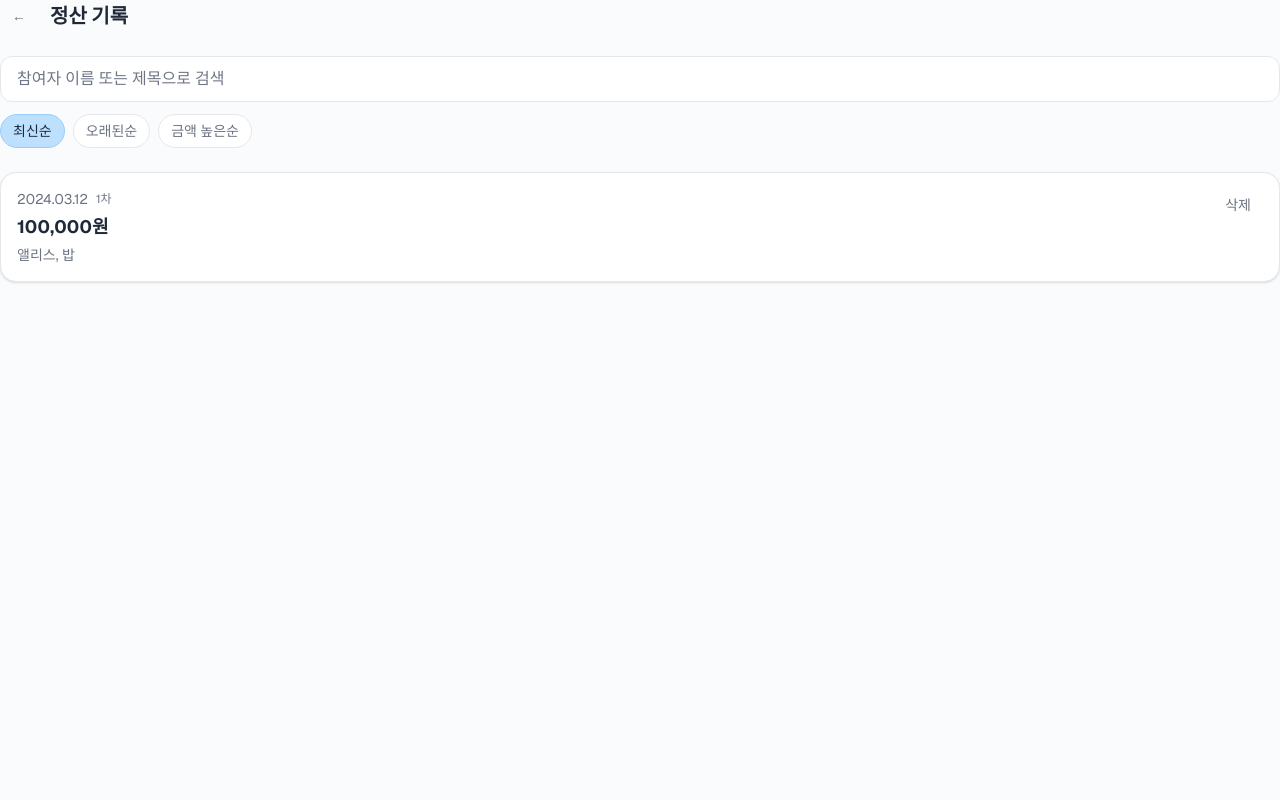
Scenario: HistoryPage - 삭제 플로우 › 삭제 버튼 클릭 시 확인 모달이 열림
Click the button with aria-label "테스트 삭제": x=1238, y=205 top-left (1213, 189), bottom-right (1263, 221)
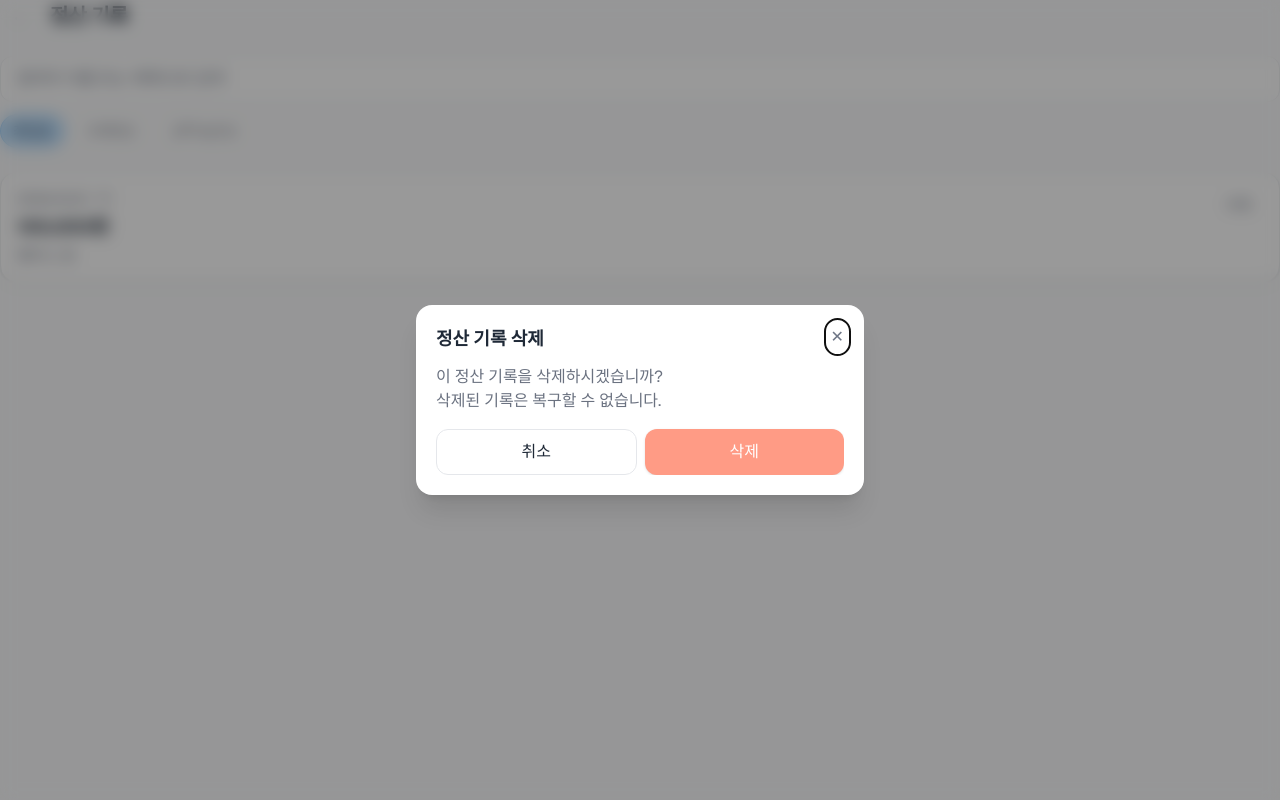
expect the heading "정산 기록 삭제" is shown: met, box top-left (436, 327), bottom-right (544, 350)
expect the text "이 정산 기록을 삭제하시겠습니까?삭제된 기록은 복구할 수 없습니다." is shown: met, box top-left (436, 366), bottom-right (663, 411)
